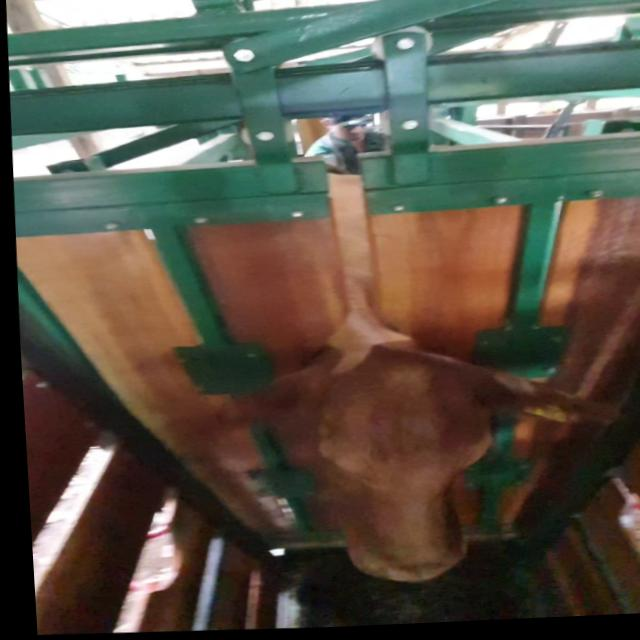cowFace: (303, 352, 497, 591)
